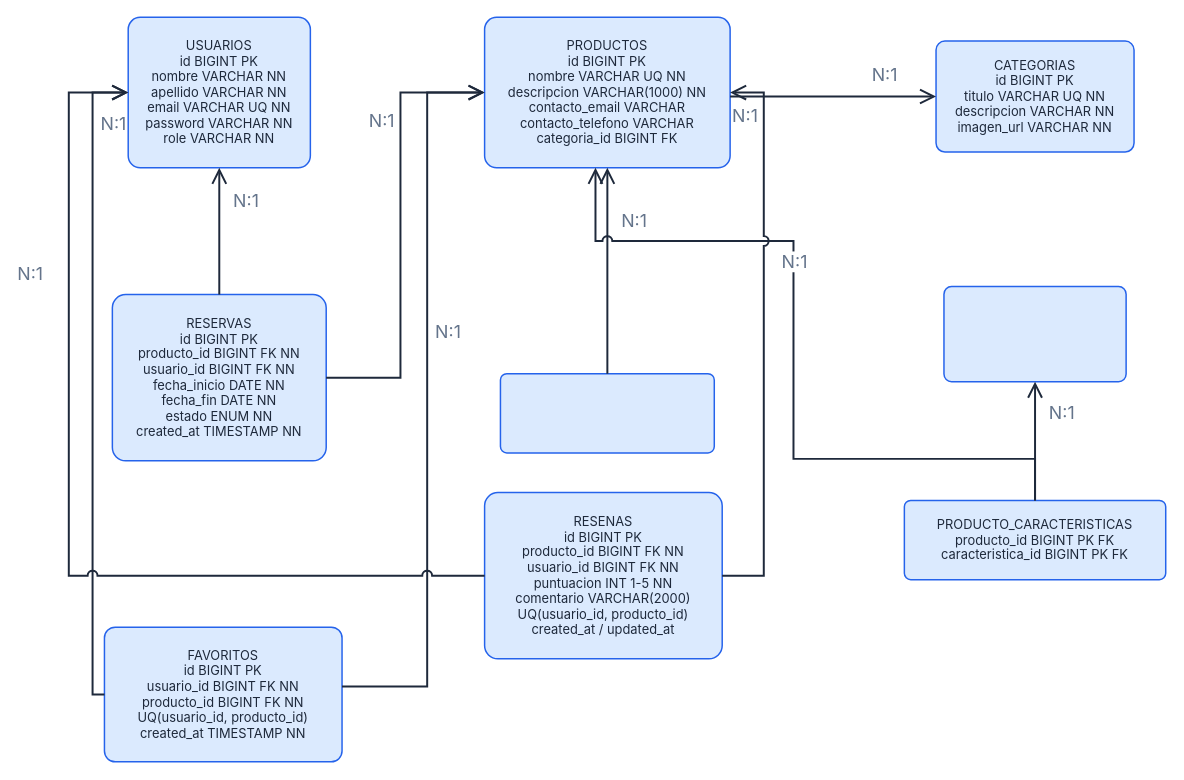
Some shapes in this 1184 by 780 pixel diagram are drawn without their labels. Here are the shapes that lost their labels. From the top down, the box of each, then its label:
(943, 285, 1126, 382): CARACTERISTICAS id BIGINT PK nombre VARCHAR UQ NN icono VARCHAR NN
(499, 373, 715, 453): PRODUCTO_IMAGENES producto_id BIGINT FK NN url VARCHAR NN
